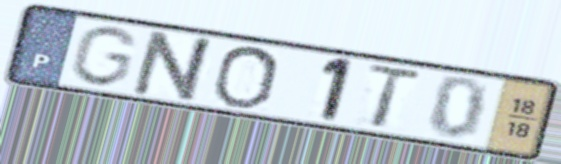0: (427, 75, 491, 142)
1: (315, 56, 358, 126)
G: (65, 24, 142, 89)
N: (126, 28, 222, 106)
O: (208, 45, 283, 110)
T: (363, 62, 425, 131)
